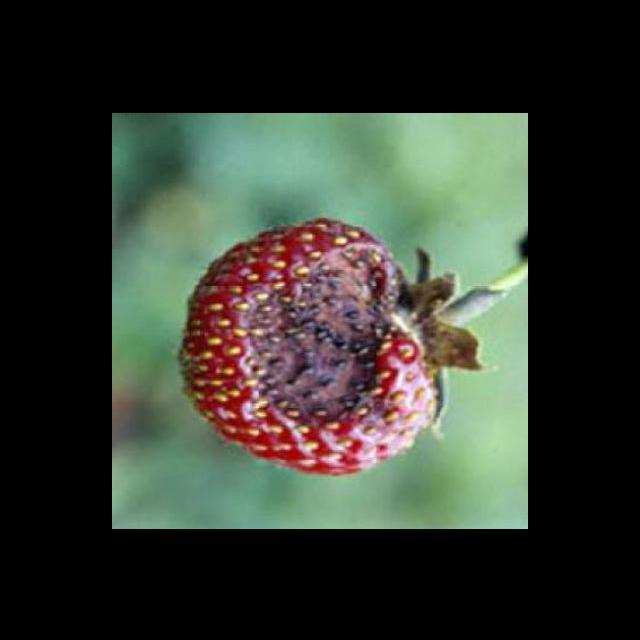Anthracnose Fruit Rot: (240, 237, 417, 436)
